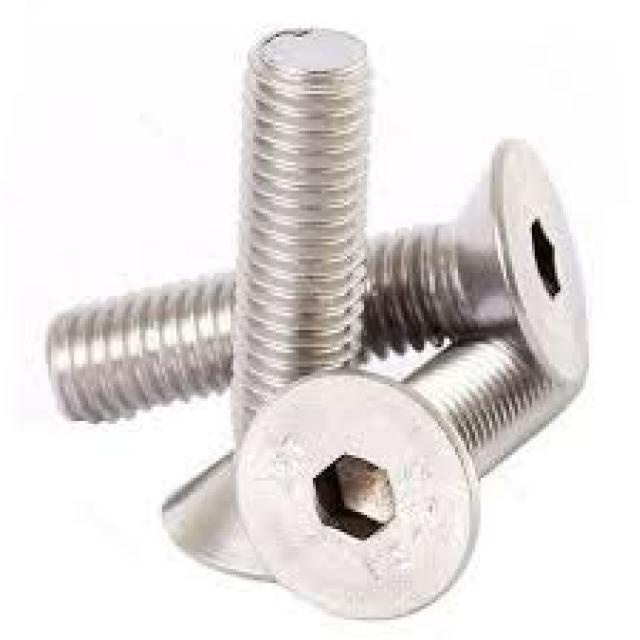allen: (232, 369, 478, 619), (489, 135, 591, 388)
